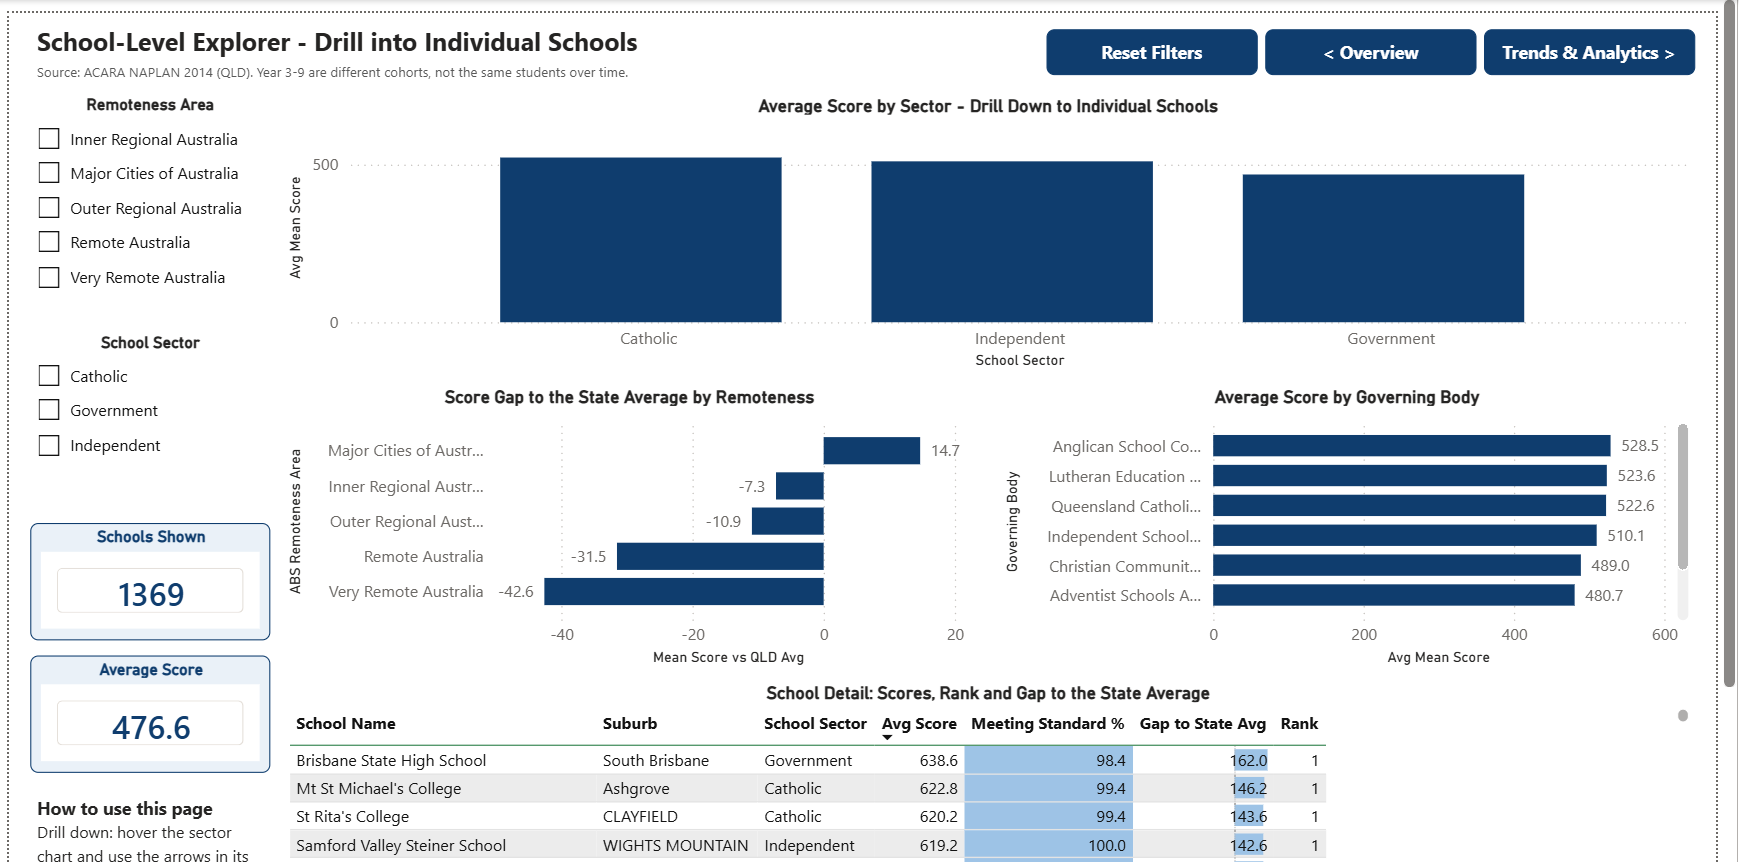

The page's visual inventory and layout, read from the dashboard file:
{"tool":"powerbi","page":{"name":"School Explorer","canvas":[1280,800],"ordinal":1},"visuals":[{"type":"textbox","box":[16,4,620,54],"z":100},{"type":"listSlicer","title":"Remoteness Area","fields":{"Values":["School_Locations.ABS Remoteness Area"]},"box":[16,62,180,170],"z":200},{"type":"listSlicer","title":"School Sector","fields":{"Values":["School_Locations.School Sector"]},"box":[16,240,180,130],"z":250},{"type":"cardVisual","title":"Schools Shown","fields":{"Data":["NAPLAN_Scores.School Count"]},"box":[16,382,180,88],"z":260},{"type":"cardVisual","title":"Average Score","fields":{"Data":["NAPLAN_Scores.Avg Mean Score"]},"box":[16,482,180,88],"z":261},{"type":"clusteredColumnChart","title":"Average Score by Sector - Drill Down to Individual Schools","fields":{"Category":["School_Locations.School Sector","School_Locations.School Name"],"Y":["NAPLAN_Scores.Avg Mean Score"]},"box":[204,62,1060,210],"z":300},{"type":"textbox","box":[16,582,180,204],"z":400},{"type":"tableEx","title":"School Detail: Scores, Rank and Gap to the State Average","fields":{"Values":["School_Locations.School Name","School_Locations.Suburb","School_Locations.School Sector","NAPLAN_Scores.Avg Mean Score","NAPLAN_Scores.Avg % at or above NMS","NAPLAN_Scores.Mean Score vs QLD Avg","NAPLAN_Scores.School Rank by Mean Score"]},"box":[204,502,1060,284],"z":500},{"type":"actionButton","box":[942,12,158,34],"z":600},{"type":"actionButton","box":[1106,12,158,34],"z":601},{"type":"clusteredBarChart","title":"Average Score by Governing Body","fields":{"Category":["School_Locations.Governing Body"],"Y":["NAPLAN_Scores.Avg Mean Score"]},"box":[742,280,522,214],"z":650},{"type":"clusteredBarChart","title":"Score Gap to the State Average by Remoteness","fields":{"Category":["School_Locations.ABS Remoteness Area"],"Y":["NAPLAN_Scores.Mean Score vs QLD Avg"]},"box":[204,280,522,214],"z":700},{"type":"actionButton","box":[778,12,158,34],"z":2000}]}

Visuals, with their boxes on the page's 1280x800 design canvas (x1, y1, x2, y2). These are canvas units, not pixel positions in the 1739x862 screenshot, which may show the page scaled, cropped or inside an application window:
textbox: select_region(16, 4, 636, 58)
"Remoteness Area" listSlicer: select_region(16, 62, 196, 232)
"School Sector" listSlicer: select_region(16, 240, 196, 370)
"Schools Shown" cardVisual: select_region(16, 382, 196, 470)
"Average Score" cardVisual: select_region(16, 482, 196, 570)
"Average Score by Sector - Drill Down to Individual Schools" clusteredColumnChart: select_region(204, 62, 1264, 272)
textbox: select_region(16, 582, 196, 786)
"School Detail: Scores, Rank and Gap to the State Average" tableEx: select_region(204, 502, 1264, 786)
actionButton: select_region(942, 12, 1100, 46)
actionButton: select_region(1106, 12, 1264, 46)
"Average Score by Governing Body" clusteredBarChart: select_region(742, 280, 1264, 494)
"Score Gap to the State Average by Remoteness" clusteredBarChart: select_region(204, 280, 726, 494)
actionButton: select_region(778, 12, 936, 46)
